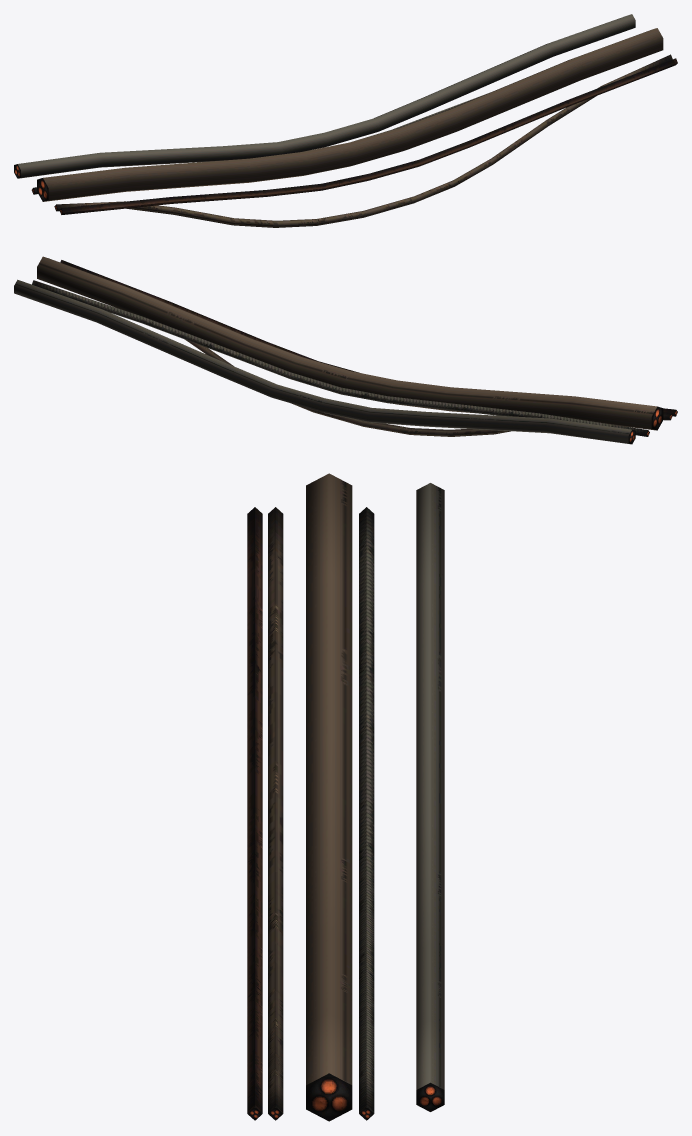
Rendered from multi_cable_hanging_02.dae.
3 renders of one model, top to bottom at view 1: azimuth 30°, elevation 25°; view 2: azimuth 150°, elevation 25°; view 3: azimuth 270°, elevation 25°, orthographic. The views are drawn at different scales.
Parts seen in each view (by area): view 1: polySurface12; view 2: polySurface12; view 3: polySurface12.
Boxes of the visible parts, x1,y1,x2,y2 form: polySurface12: (14, 14, 677, 227); polySurface12: (14, 256, 677, 444); polySurface12: (247, 473, 444, 1121).
Size of the model in its own units: 4 by 0.6541 by 0.5562.
